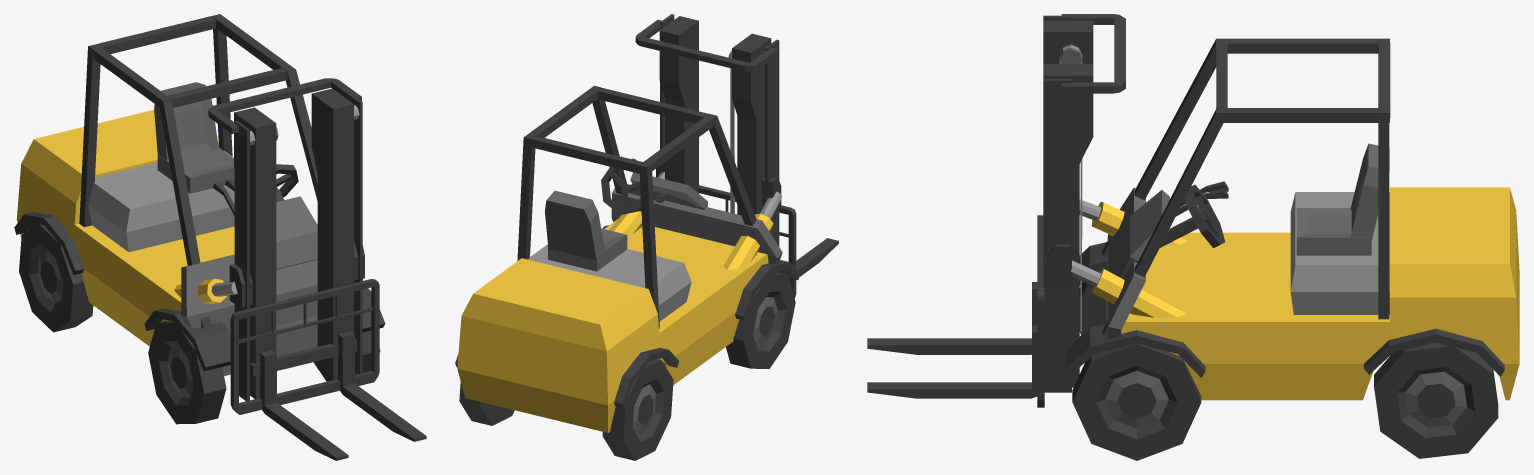
The model's file is forklift.glb.
The picture shows the model from 3 angles, left to right: view 1: azimuth 30°, elevation 25°; view 2: azimuth 150°, elevation 25°; view 3: azimuth 270°, elevation 25°; orthographic projection. The views are drawn at different scales.
Visible parts, largest first — view 1: Cylinder.002_Material.002_0, Cylinder.002_Material.014_0, Cylinder.002_Material.003_0, Cylinder.002_Material.006_0; view 2: Cylinder.002_Material.002_0, Cylinder.002_Material.014_0, Cylinder.002_Material.003_0, Cylinder.002_Material.006_0; view 3: Cylinder.002_Material.002_0, Cylinder.002_Material.014_0, Cylinder.002_Material.003_0, Cylinder.002_Material.006_0.
Part boxes in pixels (<box>): Cylinder.002_Material.002_0: <box>14,14,426,460</box>; Cylinder.002_Material.014_0: <box>16,110,234,346</box>; Cylinder.002_Material.003_0: <box>37,82,362,397</box>; Cylinder.002_Material.006_0: <box>88,105,359,296</box>; Cylinder.002_Material.002_0: <box>455,14,838,460</box>; Cylinder.002_Material.014_0: <box>457,211,773,432</box>; Cylinder.002_Material.003_0: <box>545,50,782,434</box>; Cylinder.002_Material.006_0: <box>528,51,782,321</box>; Cylinder.002_Material.002_0: <box>867,14,1504,460</box>; Cylinder.002_Material.014_0: <box>1091,187,1519,400</box>; Cylinder.002_Material.003_0: <box>1059,44,1466,428</box>; Cylinder.002_Material.006_0: <box>1059,45,1389,331</box>.
Size of the model in its own units: 84.61 by 142 by 231.
